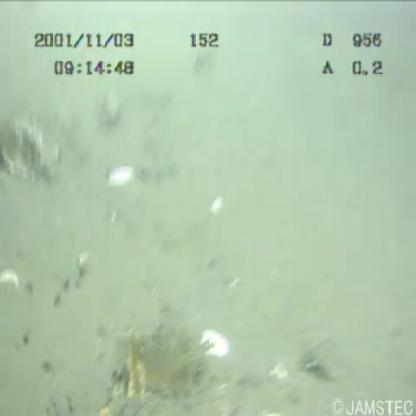Rác: (83, 341, 166, 416)
